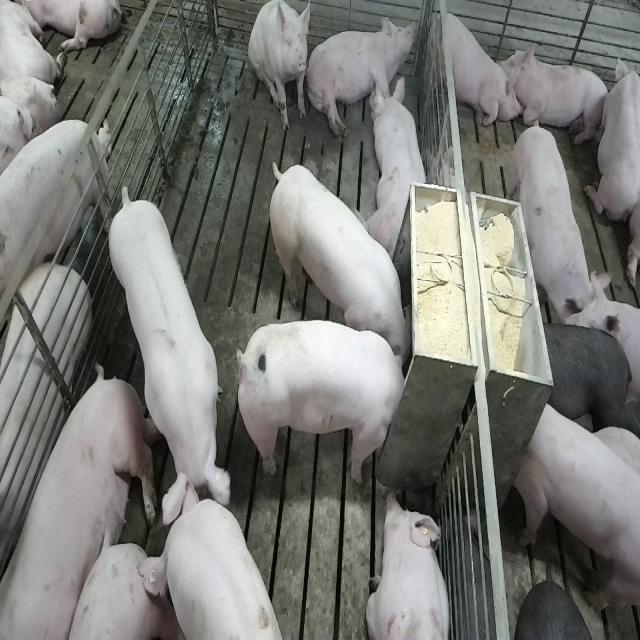Feeding: (263, 159, 412, 366), (232, 318, 408, 484)
Lateral_lying: (5, 368, 158, 640), (304, 12, 418, 138)
Sitting: (422, 4, 510, 136), (248, 2, 311, 133)
Standing: (106, 188, 230, 537), (0, 266, 90, 613), (515, 395, 638, 626), (0, 112, 109, 318), (511, 111, 609, 330), (150, 493, 285, 640), (542, 318, 636, 442)
Sternal_lying: (366, 489, 453, 640), (368, 72, 431, 258), (508, 42, 610, 146), (584, 46, 638, 225)
